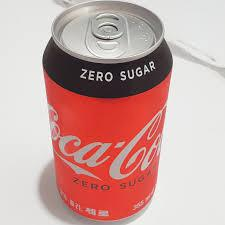cocacola_zero: (41, 0, 177, 224)
